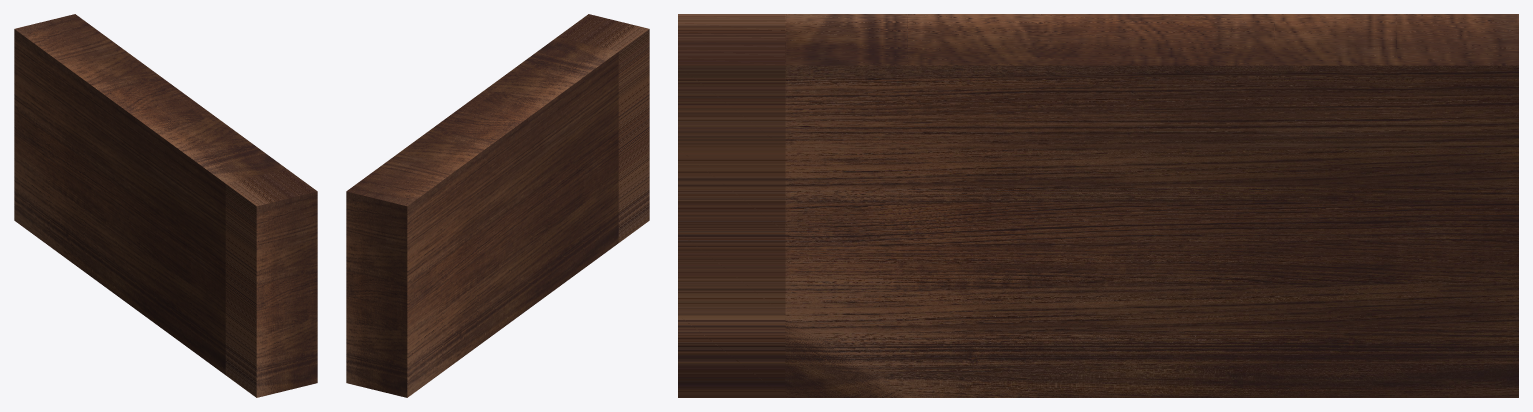
File: WoodBarrierXL.fbx
The picture shows the model from 3 angles, left to right: view 1: azimuth 30°, elevation 25°; view 2: azimuth 150°, elevation 25°; view 3: azimuth 270°, elevation 25°; orthographic projection. The views are drawn at different scales.
Visible parts, largest first — view 1: WoodBarrier.001XL; view 2: WoodBarrier.001XL; view 3: WoodBarrier.001XL.
Boxes of the visible parts, x1,y1,x2,y2 form: WoodBarrier.001XL: [14, 14, 317, 397]; WoodBarrier.001XL: [346, 14, 649, 397]; WoodBarrier.001XL: [678, 14, 1518, 397].
Bounding box in the file's own units: 25 × 74.97 × 172.
